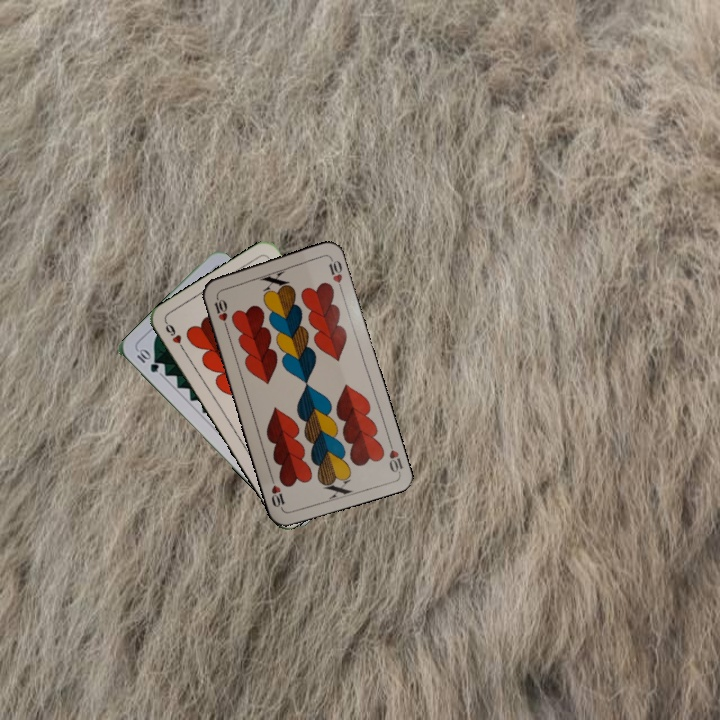G10: (133, 345, 162, 375)
H10: (384, 435, 405, 475), (210, 291, 230, 331)
H9: (161, 318, 188, 355)
